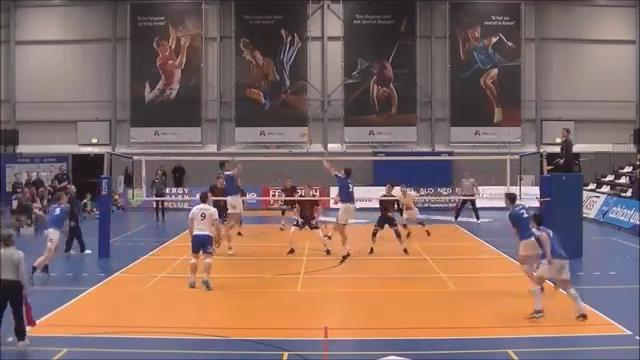alzata: (320, 156, 353, 271)
attacco: (217, 155, 245, 248)
